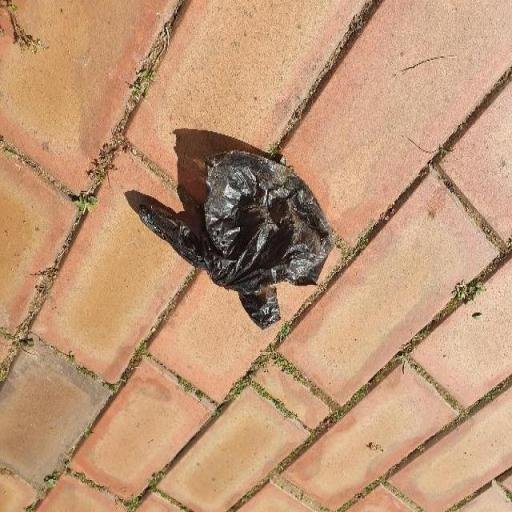plastic-bag: (134, 150, 340, 330)
